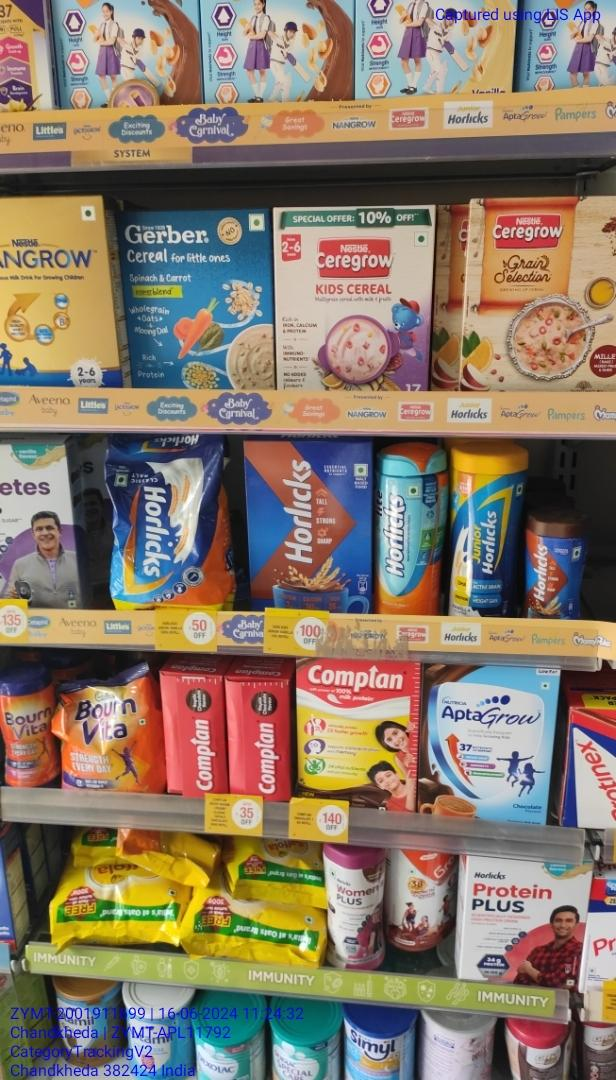BOURN_VITA_200_G_JAR: (0, 674, 54, 791)
BOURN_VITA_500_G_POUCH: (60, 679, 154, 793)
HORLICKS_JUNIOR_VANILLA_500_GM_JAR: (451, 450, 510, 616)
HORLICKS_LITE_REGULAR_MALT_500_GM_JAR: (376, 456, 447, 614)
HORLICK_CHOCOLATE_200_G_JAR: (523, 518, 582, 617)
HORLICK_CHOCOLATE_500_G_PACK: (246, 439, 370, 603)
